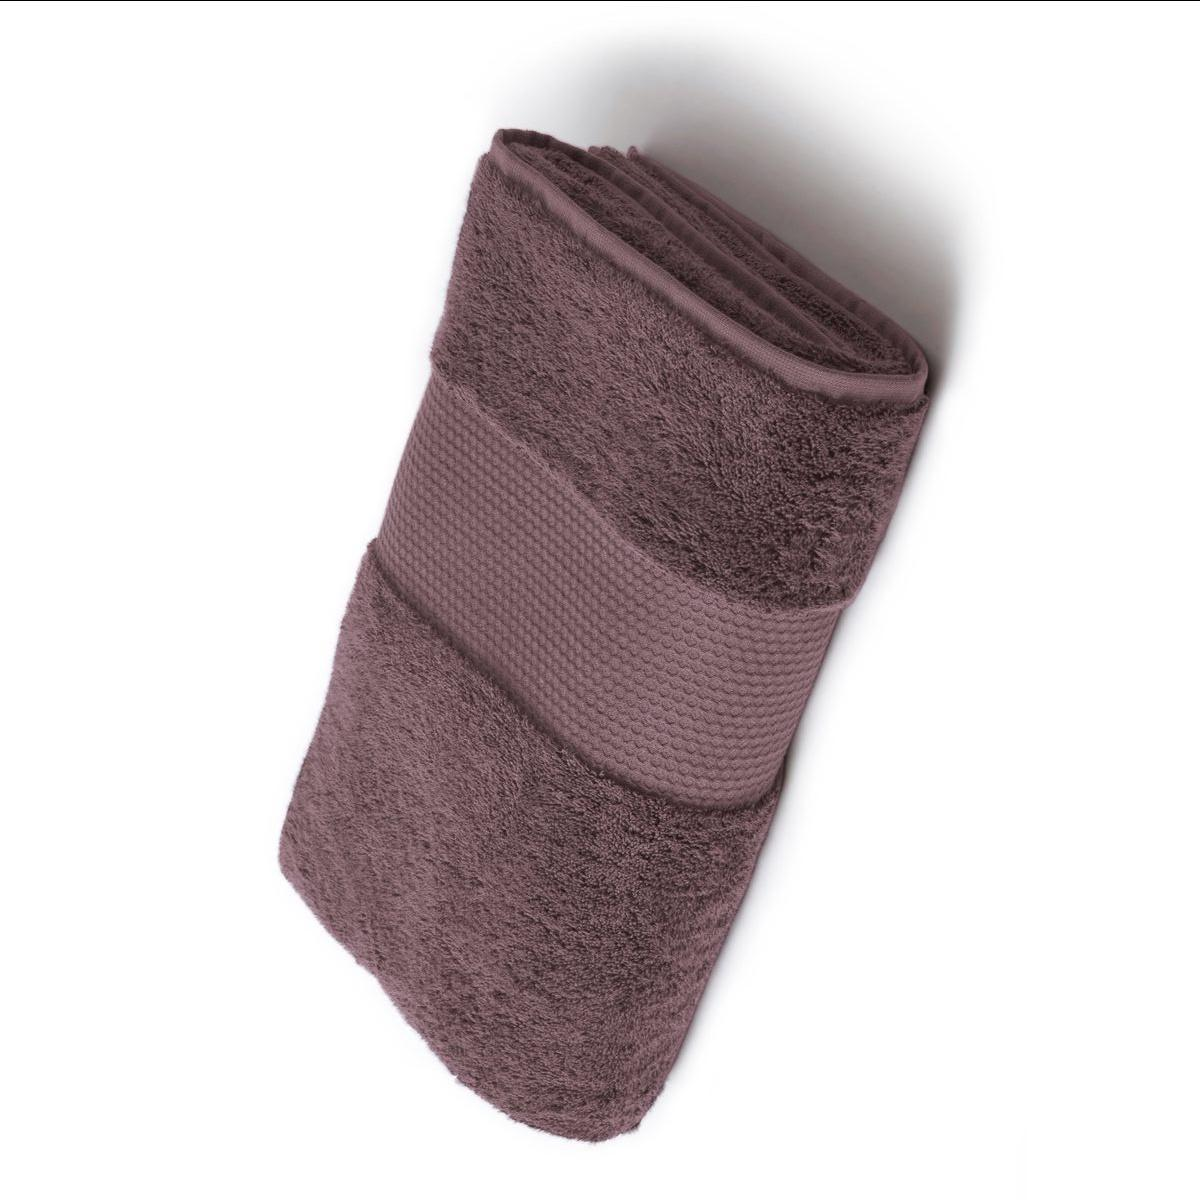towel: (149, 137, 925, 1118)
